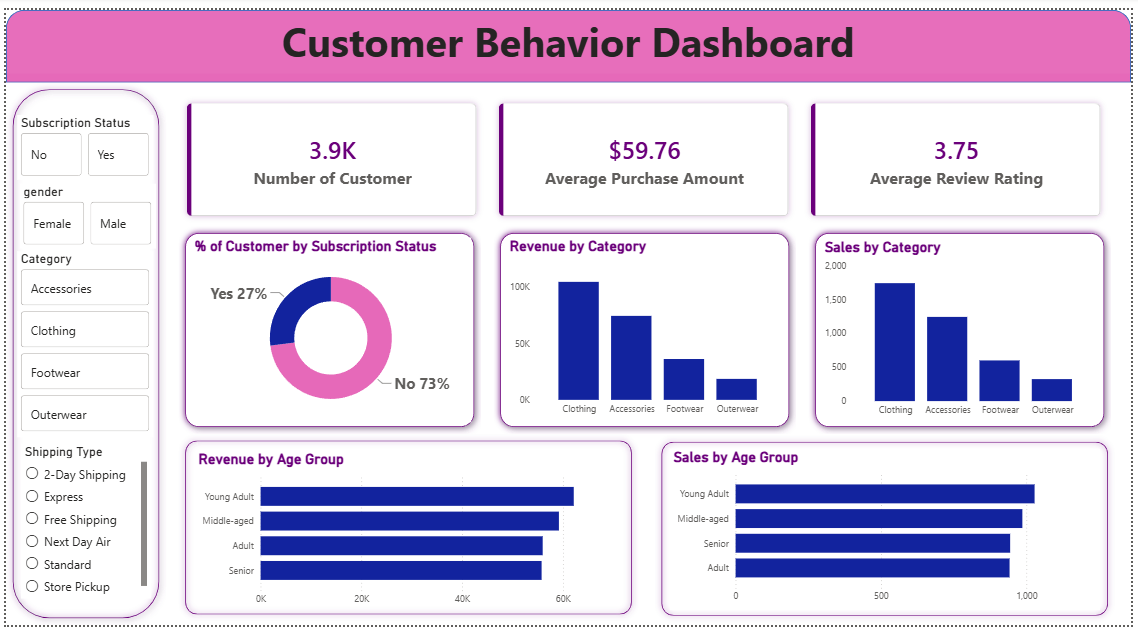

What the dashboard file says about the page in this screenshot:
{"tool":"powerbi","page":{"name":"Page 1","canvas":[1500,820],"ordinal":0},"visuals":[{"type":"cardVisual","fields":{"Data":["public customer.Number of Customer","public customer.Average Purchase Amount","public customer.Average Review Rating"]},"box":[213.3,96.7,1275,206.7],"z":0},{"type":"shape","box":[0,0,1500,96.7],"z":1000},{"type":"textbox","box":[0,0,1500,85],"z":2000},{"type":"shape","box":[230,288.3,403.3,276.7],"z":3000},{"type":"donutChart","title":"% of Customer by Subscription Status","fields":{"Category":["public customer.subscription_status"],"Y":["CountNonNull(public customer.customer_id)"]},"box":[246.7,303.3,373.3,246.7],"z":4000},{"type":"shape","box":[650,288.3,403.3,276.7],"z":5000},{"type":"shape","box":[1070,288.3,403.3,276.7],"z":6000},{"type":"clusteredColumnChart","title":"Revenue by Category","fields":{"Y":["Sum(public customer.purchase_amount)"],"Category":["public customer.category"]},"box":[666.7,303.3,370,246.7],"z":7000},{"type":"clusteredColumnChart","title":"Sales by Category","fields":{"Category":["public customer.category"],"Y":["CountNonNull(public customer.customer_id)"]},"box":[1086.7,305,370,246.7],"z":8000},{"type":"shape","box":[0,96.7,213.3,723.3],"z":9000},{"type":"advancedSlicerVisual","fields":{"Values":["public customer.subscription_status"]},"box":[15,140,181.7,86.7],"z":10000},{"type":"advancedSlicerVisual","fields":{"Values":["public customer.gender"]},"box":[18.3,231.7,181.7,86.7],"z":11000},{"type":"advancedSlicerVisual","fields":{"Values":["public customer.category"]},"box":[15,321.7,181.7,248.3],"z":12000},{"type":"listSlicer","fields":{"Values":["public customer.shipping_type"]},"box":[20,578.3,173.3,206.7],"z":13000},{"type":"clusteredBarChart","title":"Revenue by Age Group","fields":{"Y":["Sum(public customer.purchase_amount)"],"Category":["public customer.age_group"]},"box":[251.7,588.3,573.3,215],"z":14000},{"type":"shape","box":[230,565,613.3,250],"z":15000},{"type":"shape","box":[865,566.7,613.3,250],"z":16000},{"type":"clusteredBarChart","title":"Sales by Age Group","fields":{"Y":["CountNonNull(public customer.customer_id)"],"Category":["public customer.age_group"]},"box":[885,585,573.3,215],"z":17000}]}

Visuals, with their boxes in screenshot pixels (x1, y1, x2, y2), scaled from the page's 1500x820 canvas onto the 1138x637 screenshot:
cardVisual - public customer.Number of Customer x public customer.Average Purchase Amount: {"x1": 162, "y1": 75, "x2": 1129, "y2": 236}
shape: {"x1": 0, "y1": 0, "x2": 1137, "y2": 75}
textbox: {"x1": 0, "y1": 0, "x2": 1137, "y2": 66}
shape: {"x1": 174, "y1": 224, "x2": 480, "y2": 439}
"% of Customer by Subscription Status" donutChart: {"x1": 187, "y1": 236, "x2": 470, "y2": 427}
shape: {"x1": 493, "y1": 224, "x2": 799, "y2": 439}
shape: {"x1": 812, "y1": 224, "x2": 1118, "y2": 439}
"Revenue by Category" clusteredColumnChart: {"x1": 506, "y1": 236, "x2": 787, "y2": 427}
"Sales by Category" clusteredColumnChart: {"x1": 824, "y1": 237, "x2": 1105, "y2": 429}
shape: {"x1": 0, "y1": 75, "x2": 162, "y2": 636}
advancedSlicerVisual - public customer.subscription_status: {"x1": 11, "y1": 109, "x2": 149, "y2": 176}
advancedSlicerVisual - public customer.gender: {"x1": 14, "y1": 180, "x2": 152, "y2": 247}
advancedSlicerVisual - public customer.category: {"x1": 11, "y1": 250, "x2": 149, "y2": 443}
listSlicer - public customer.shipping_type: {"x1": 15, "y1": 449, "x2": 147, "y2": 610}
"Revenue by Age Group" clusteredBarChart: {"x1": 191, "y1": 457, "x2": 626, "y2": 624}
shape: {"x1": 174, "y1": 439, "x2": 640, "y2": 633}
shape: {"x1": 656, "y1": 440, "x2": 1122, "y2": 634}
"Sales by Age Group" clusteredBarChart: {"x1": 671, "y1": 454, "x2": 1106, "y2": 621}
